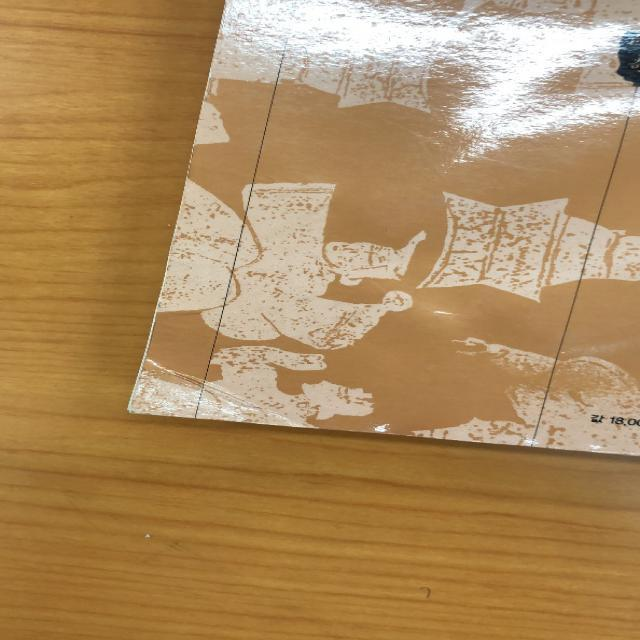Wornout: (124, 299, 162, 415)
